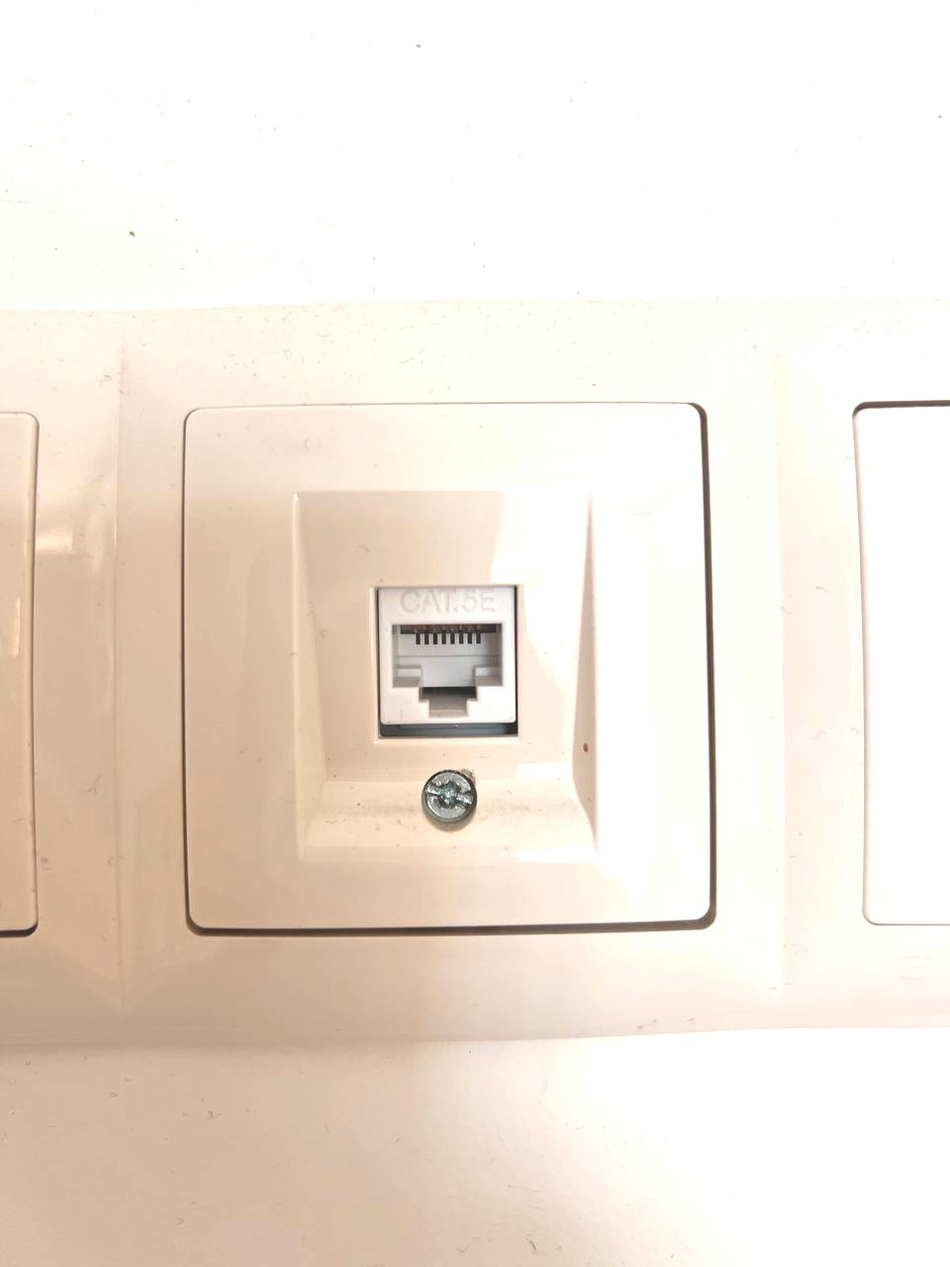Network Outlet: (276, 478, 627, 874)
